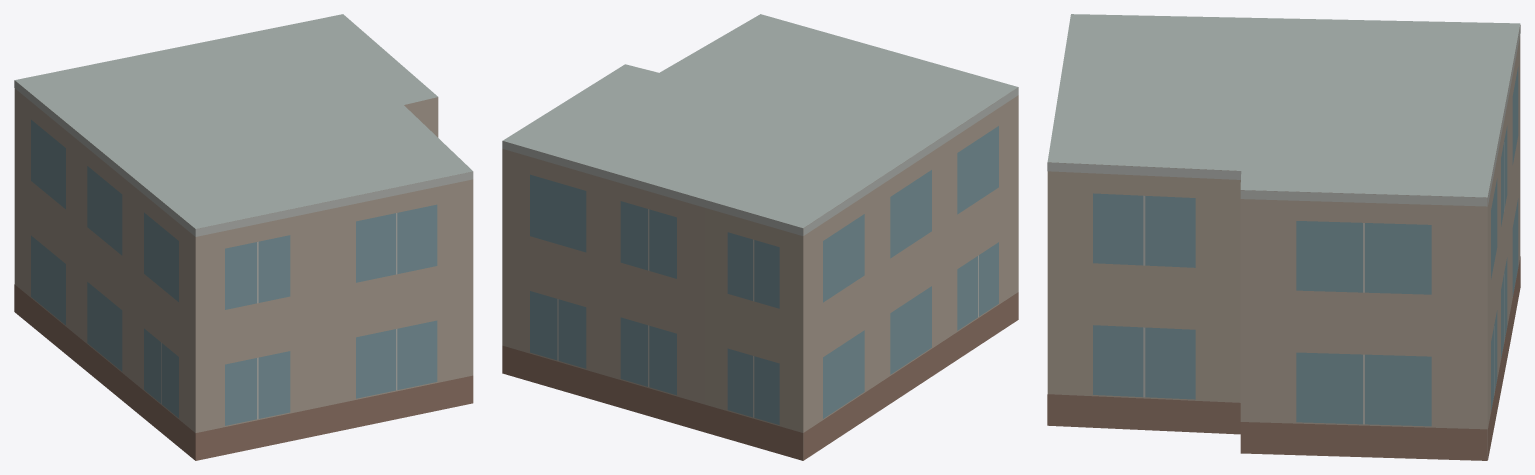
Rendered from survey-upis-33001076.glb.
3 views of the same model, side by side, from view 1: azimuth 30°, elevation 25°; view 2: azimuth 150°, elevation 25°; view 3: azimuth 270°, elevation 25° (orthographic). The views are drawn at different scales.
Parts seen in each view (by area): view 1: survey-upis-33001076.tmp; view 2: survey-upis-33001076.tmp; view 3: survey-upis-33001076.tmp.
Part boxes in pixels (x1=…): survey-upis-33001076.tmp: x1=14, y1=14, x2=473, y2=460; survey-upis-33001076.tmp: x1=502, y1=14, x2=1018, y2=460; survey-upis-33001076.tmp: x1=1047, y1=14, x2=1520, y2=460.
Bounding box in the file's own units: 10.62 × 7.1 × 11.57.
